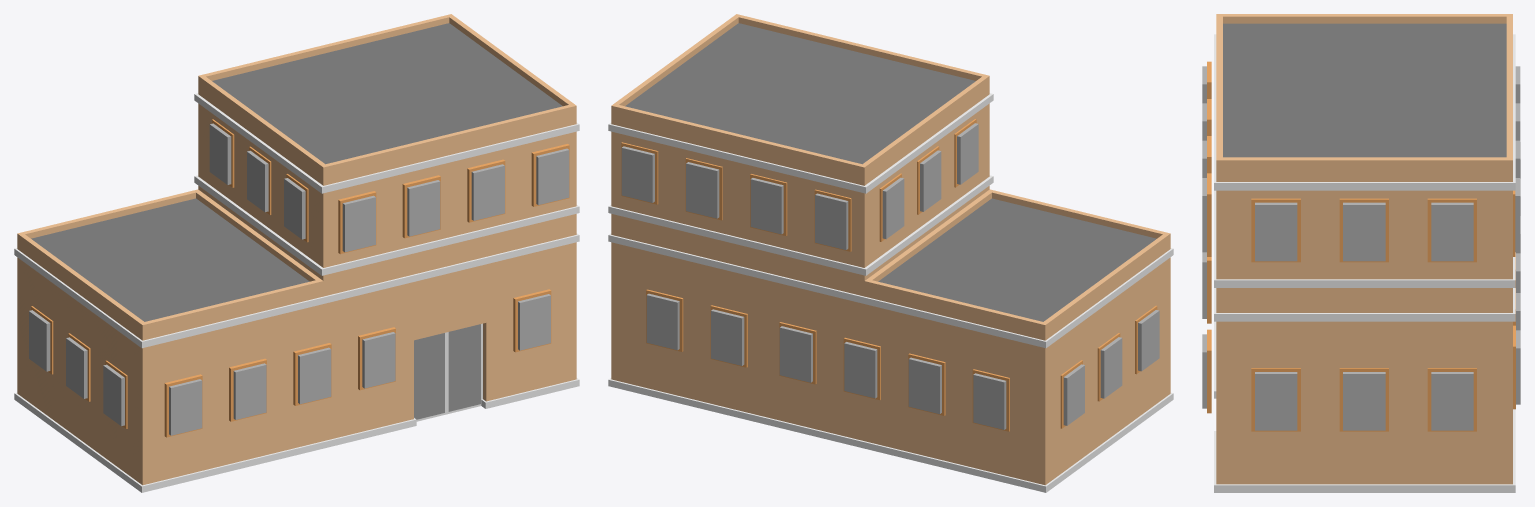
Rendered from SM_House_18_01.FBX.
3 views of the same model, side by side, from view 1: azimuth 30°, elevation 25°; view 2: azimuth 150°, elevation 25°; view 3: azimuth 270°, elevation 25° (orthographic). The views are drawn at different scales.
Parts seen in each view (by area): view 1: SM_House_18_01; view 2: SM_House_18_01; view 3: SM_House_18_01.
Part boxes in pixels (x1,y1,x2,y2): SM_House_18_01: (14,14,579,492); SM_House_18_01: (608,14,1173,492); SM_House_18_01: (1202,14,1520,492).
Bounding box in the file's own units: 12.29 × 7.4 × 6.44.
Materials: 1 (1 with a texture image).
